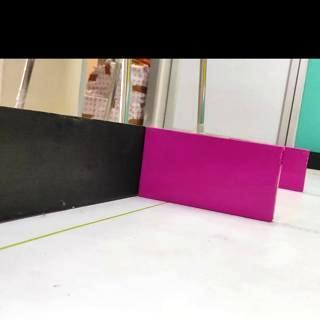xparking: (139, 130, 286, 221), (280, 147, 310, 193)
